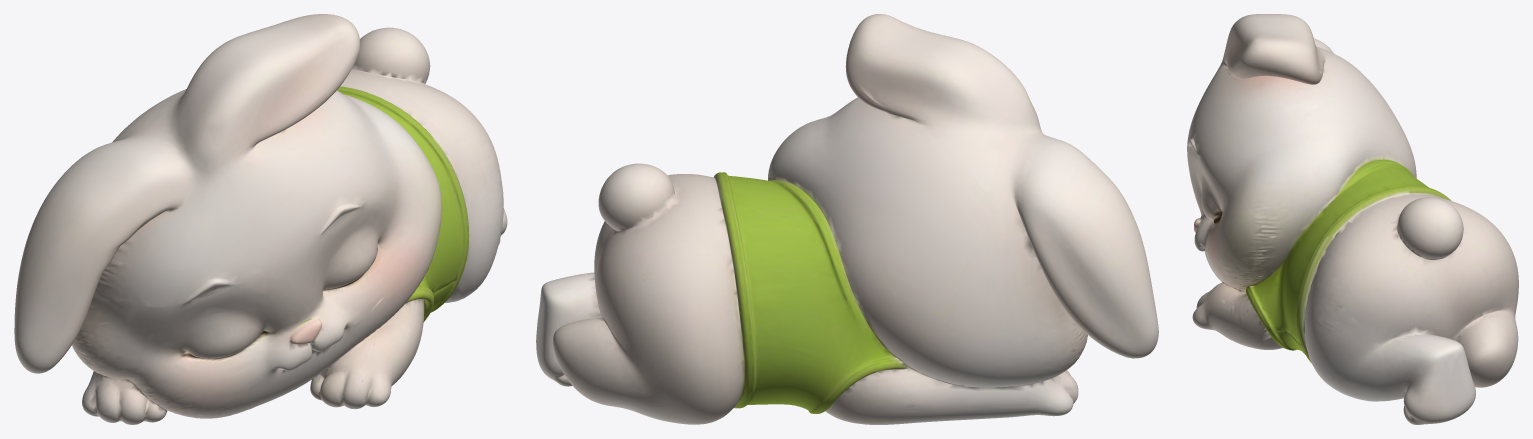
Rendered from rabbit-sleep-light.glb.
The picture shows the model from 3 angles, left to right: view 1: azimuth 30°, elevation 25°; view 2: azimuth 150°, elevation 25°; view 3: azimuth 270°, elevation 25°; orthographic projection. The views are drawn at different scales.
Parts seen in each view (by area): view 1: node_0; view 2: node_0; view 3: node_0.
Part boxes in pixels (bbox=[...]): node_0: bbox=[14, 14, 507, 424]; node_0: bbox=[536, 14, 1158, 424]; node_0: bbox=[1187, 14, 1518, 424].
Size of the model in its own units: 1.03 by 0.6141 by 0.6407.
1 material, 1 textured.
